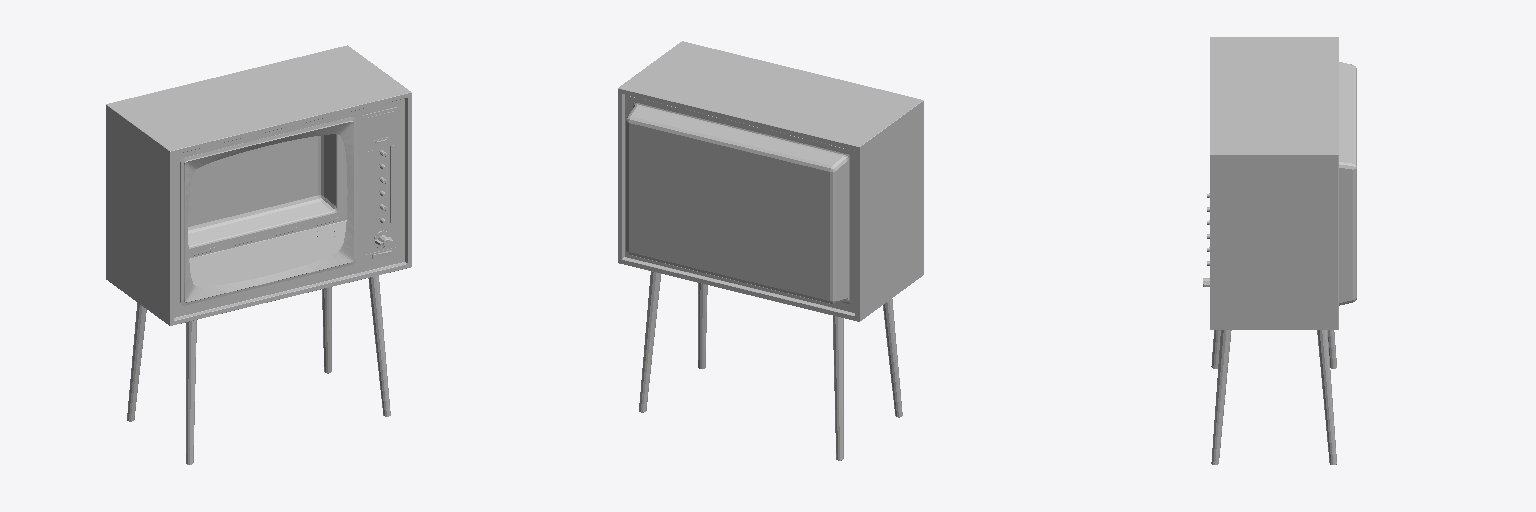
3 views of the same model, side by side, from view 1: azimuth 30°, elevation 25°; view 2: azimuth 150°, elevation 25°; view 3: azimuth 270°, elevation 25° (orthographic).
Parts seen in each view (by area): view 1: TV; view 2: TV; view 3: TV.
Part boxes in pixels (x1,y1,x2,y2): TV: (106,45,411,464); TV: (618,41,923,460); TV: (1207,37,1356,464).
Bounding box in the file's own units: 1.01 × 1.28 × 0.5596.